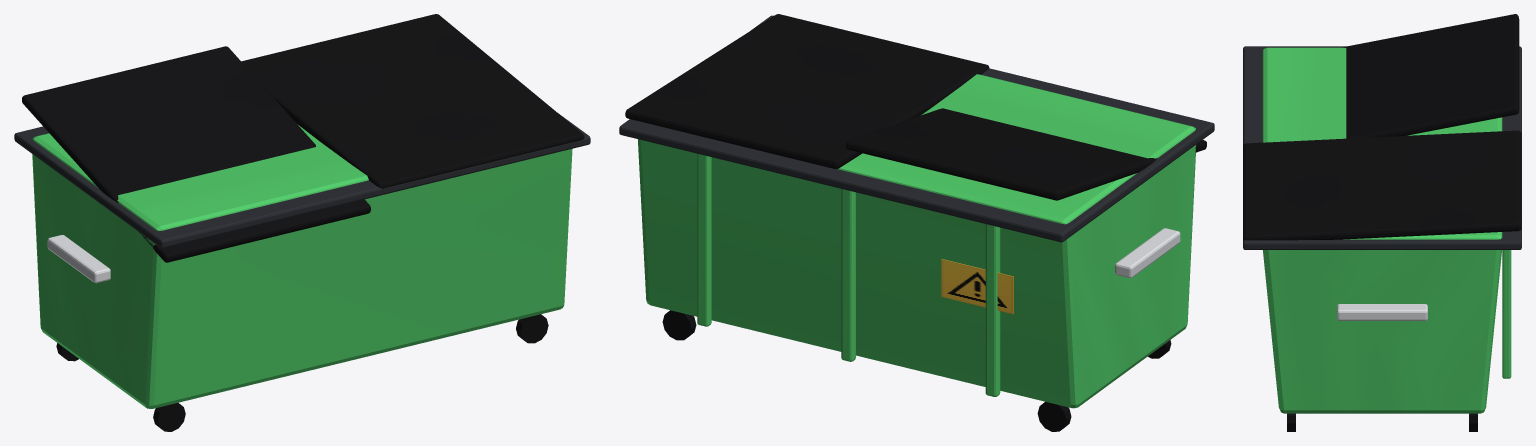
File: Dumpster.glb
The picture shows the model from 3 angles, left to right: view 1: azimuth 30°, elevation 25°; view 2: azimuth 150°, elevation 25°; view 3: azimuth 270°, elevation 25°; orthographic projection. The views are drawn at different scales.
Parts seen in each view (by area): view 1: Body, Lid; view 2: Body, Lid; view 3: Body, Lid.
Part boxes in pixels (bbox=[...]): Body: bbox=[14, 113, 590, 431]; Lid: bbox=[22, 14, 584, 262]; Body: bbox=[619, 15, 1214, 431]; Lid: bbox=[625, 14, 1206, 200]; Body: bbox=[1243, 46, 1521, 431]; Lid: bbox=[1243, 14, 1521, 240].
Size of the model in its own units: 3.32 by 1.74 by 1.84.
2 materials, 1 textured.
